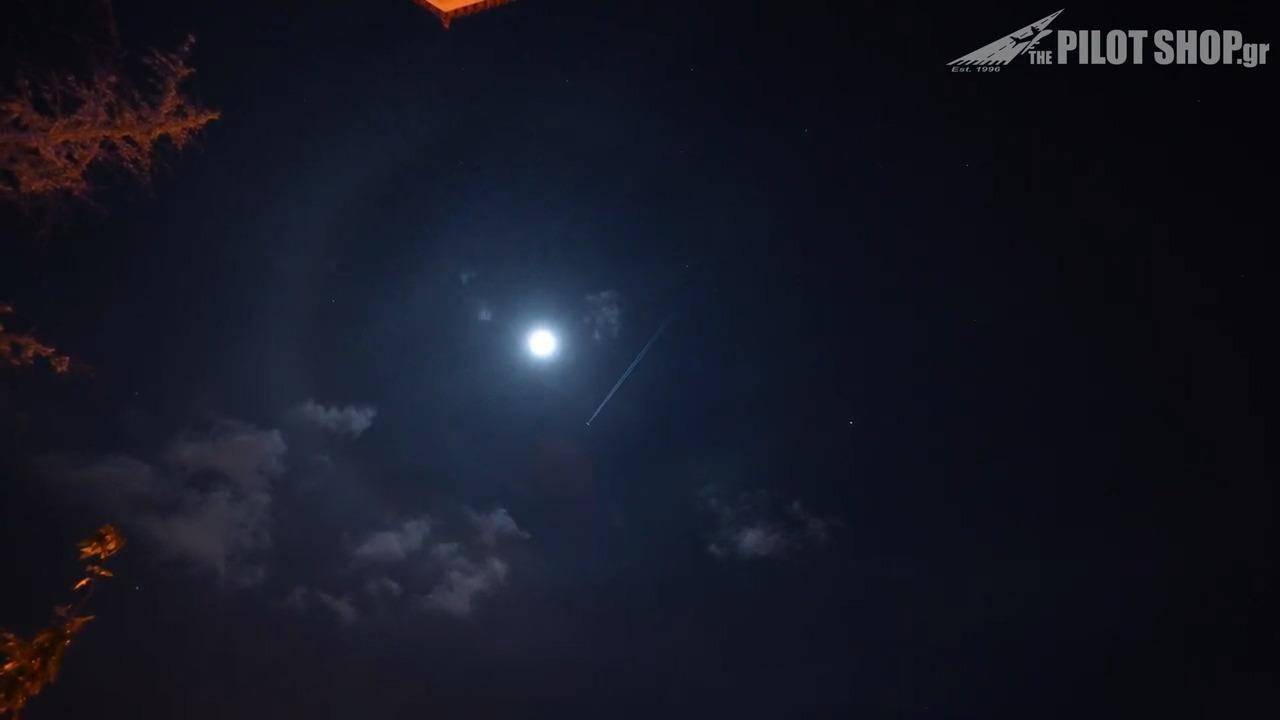Plane: (577, 359, 635, 431)
